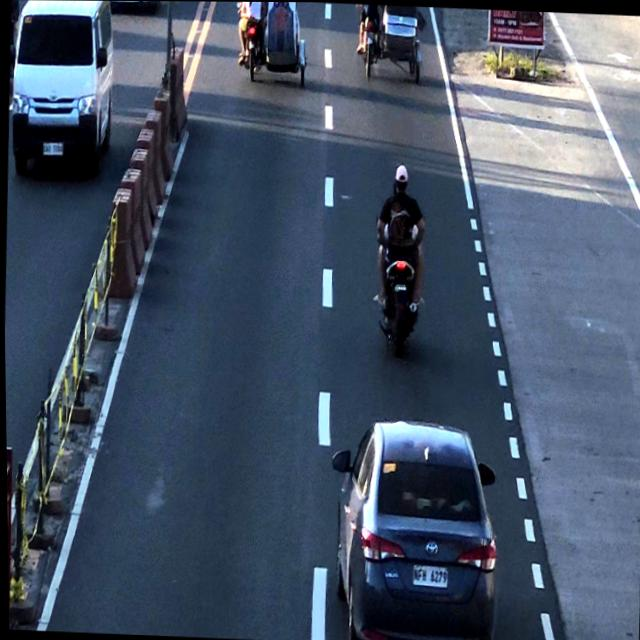Car: (331, 404, 499, 631)
License-Plate: (405, 560, 450, 592)
Motorcycle: (371, 162, 430, 354)
Tricycle: (235, 1, 308, 81), (354, 3, 424, 82)
